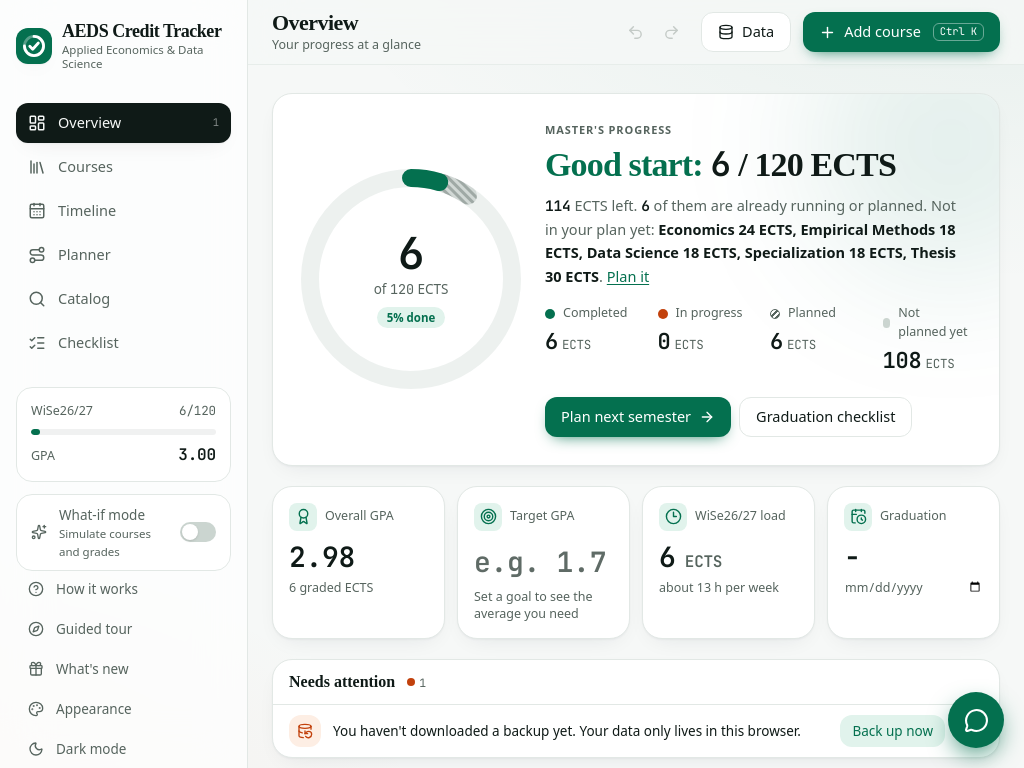
Scenario: AEDS Assistant › turns off sharing that was on before the notice existed
Click the button named "Open AEDS AI Assistant chat" at (976, 720), box [948,692,1004,748]
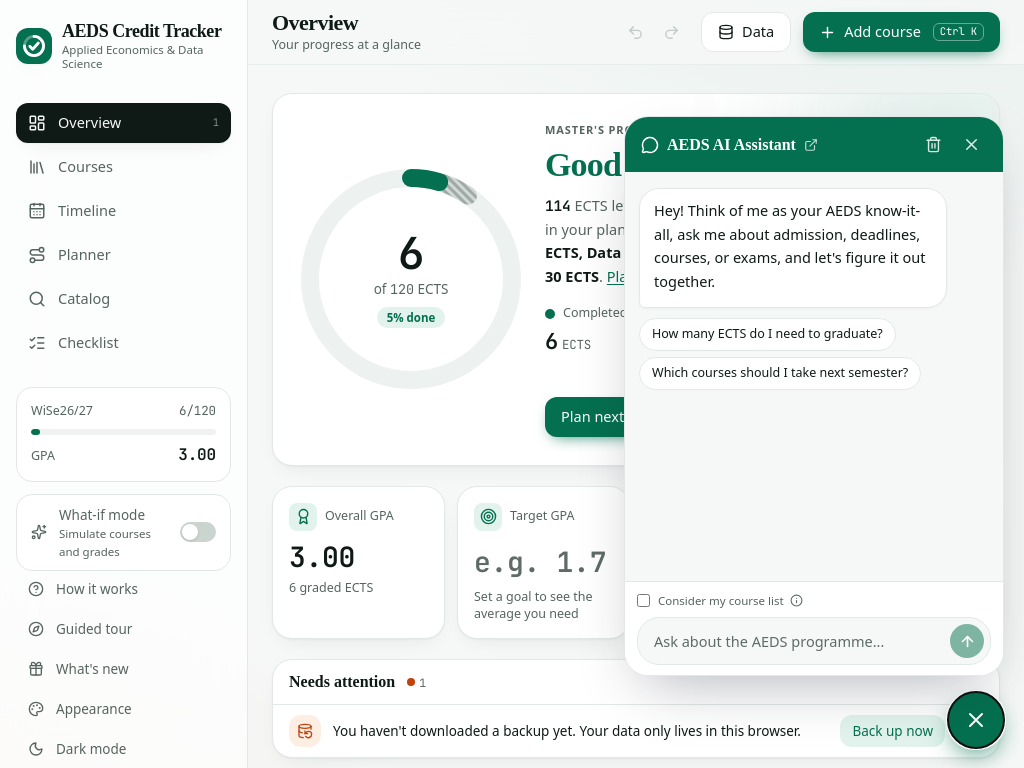
expect the checkbox labelled "Consider my course list" is not checked: met
Click the checkbox labelled "Consider my course list" at (644, 600), box [637,594,650,607]
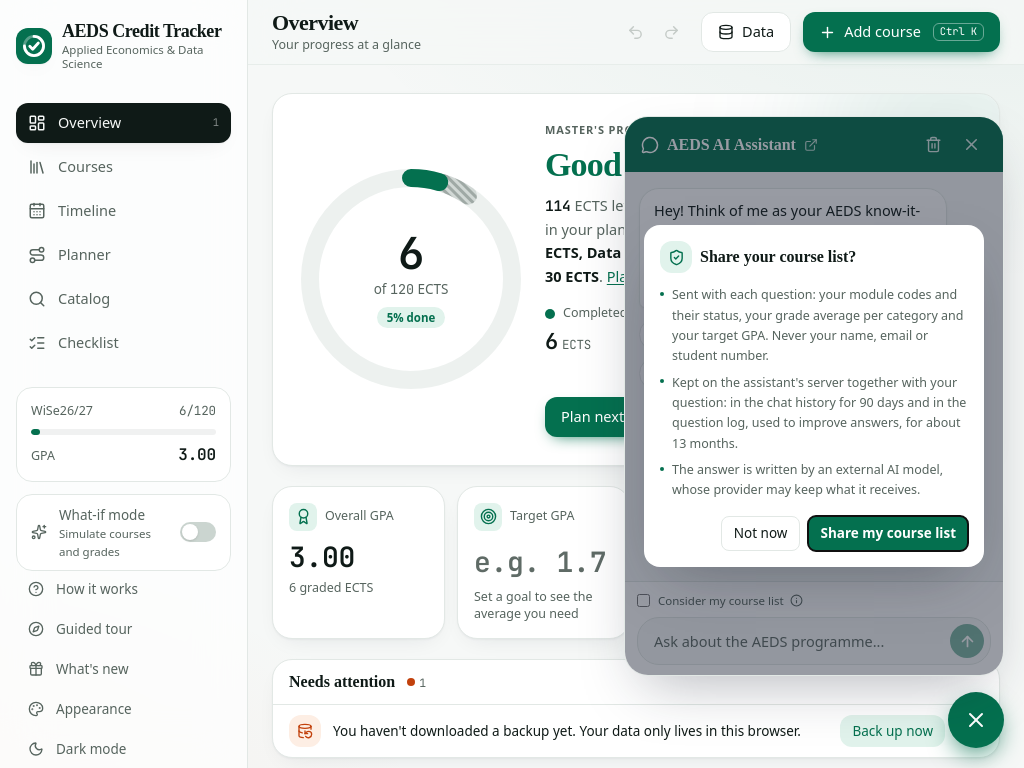
expect the dialog "Share your course list?" is shown: met, box [644,225,984,567]
